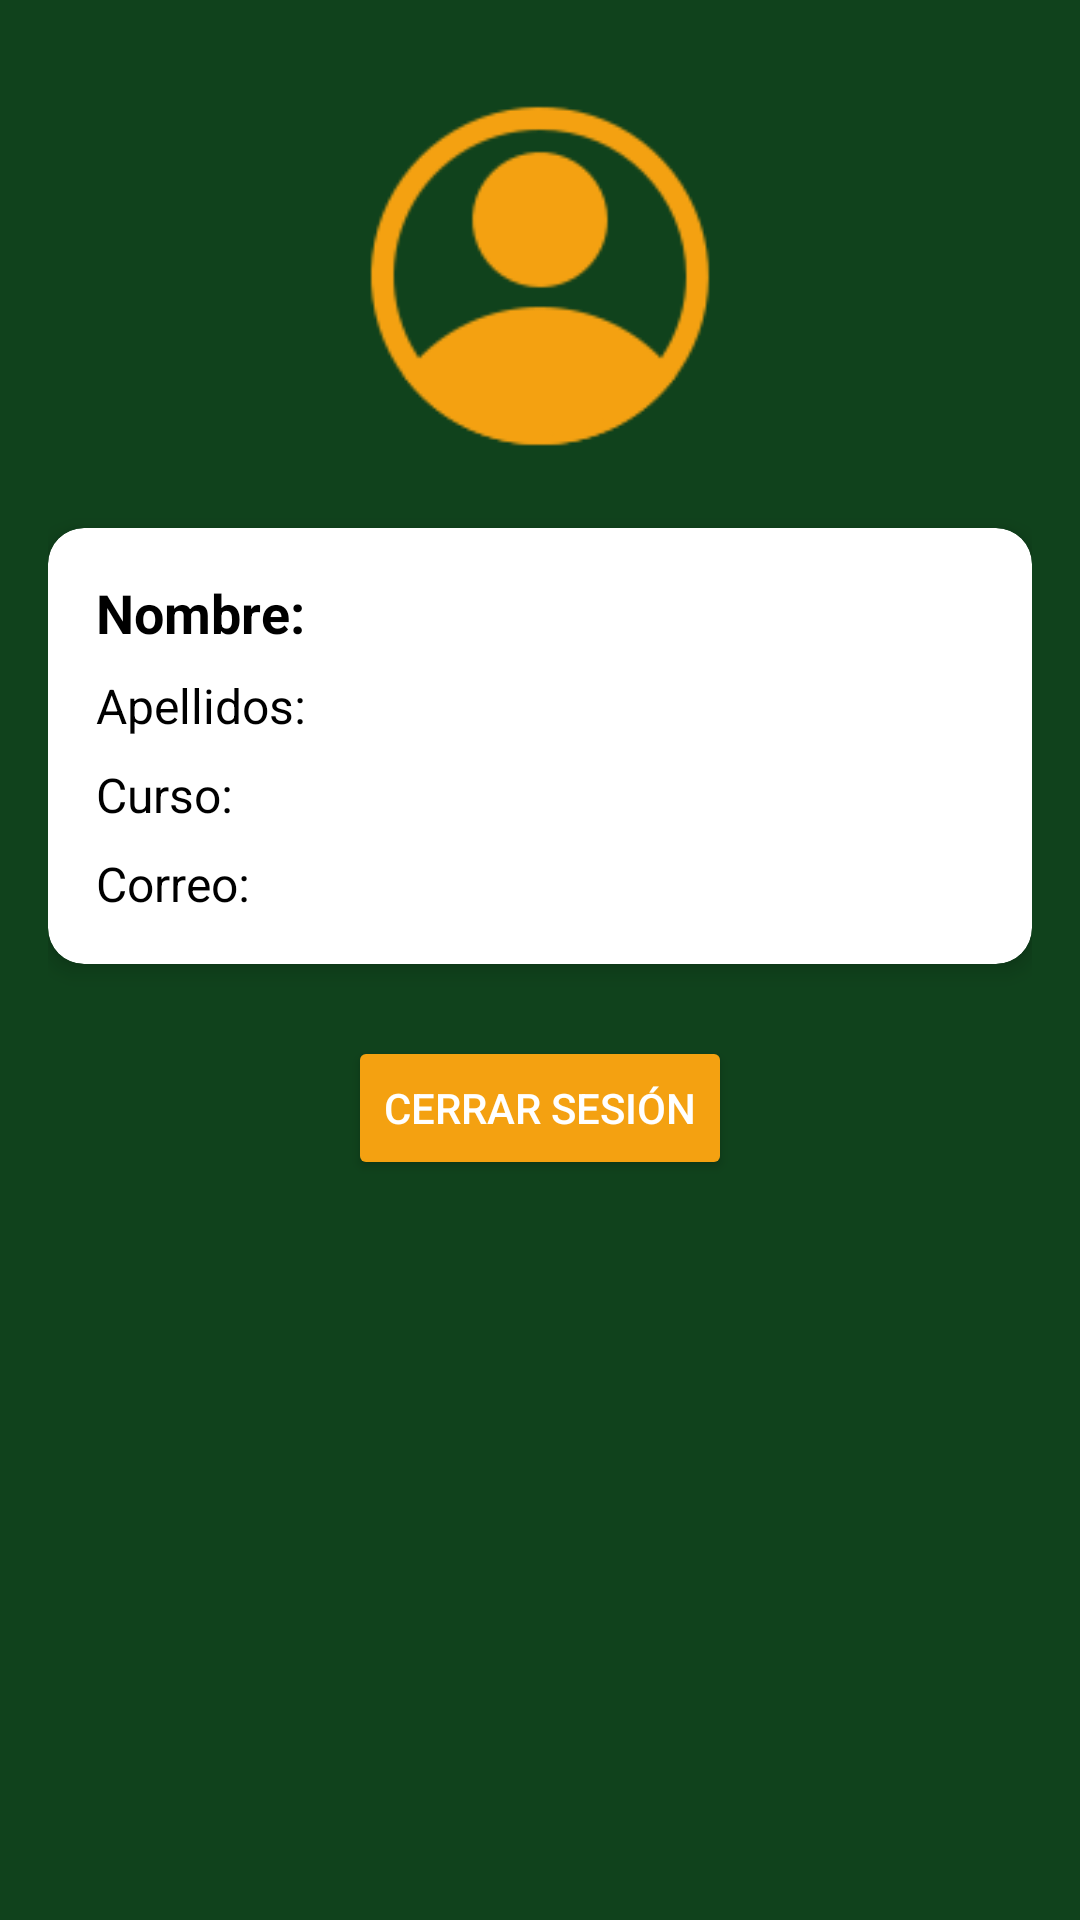

Locate icon controls on the screen. Image size 1080w x 1920h, boxes as (x1, y1, x2, y2).
profile pic: (370, 106, 710, 446)
